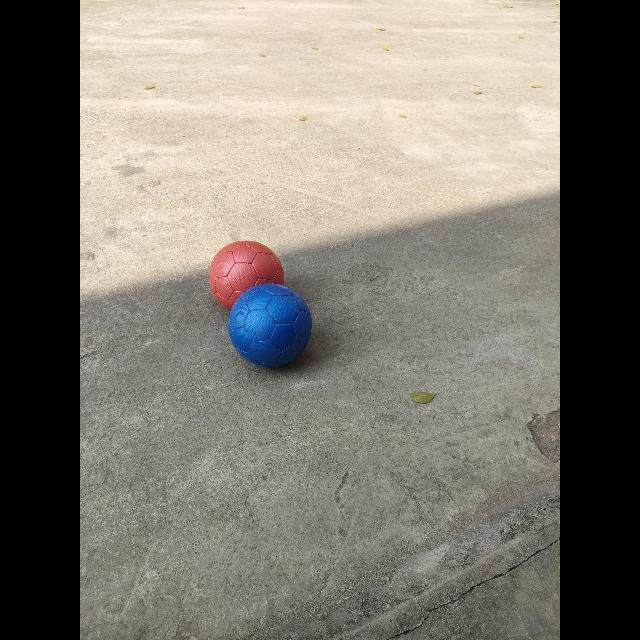B: (229, 282, 312, 368)
R: (210, 240, 284, 310)
